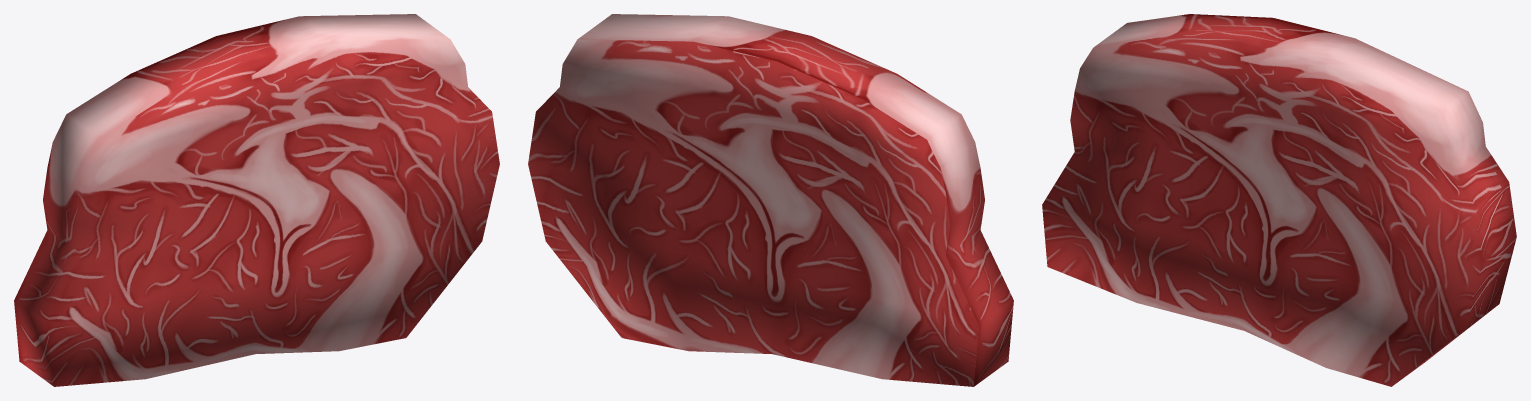
File: high_prime_ribeye.fbx
3 renders of one model, left to right at view 1: azimuth 30°, elevation 25°; view 2: azimuth 150°, elevation 25°; view 3: azimuth 330°, elevation 25°, orthographic. The views are drawn at different scales.
Visible parts, largest first — view 1: high prime ribeye; view 2: high prime ribeye; view 3: high prime ribeye.
Part boxes in pixels (left/top/right/bottom): high prime ribeye: left=14, top=14, right=499, bottom=386; high prime ribeye: left=528, top=14, right=1013, bottom=386; high prime ribeye: left=1042, top=14, right=1516, bottom=386.
Size of the model in its own units: 40.51 by 26.98 by 5.4.
